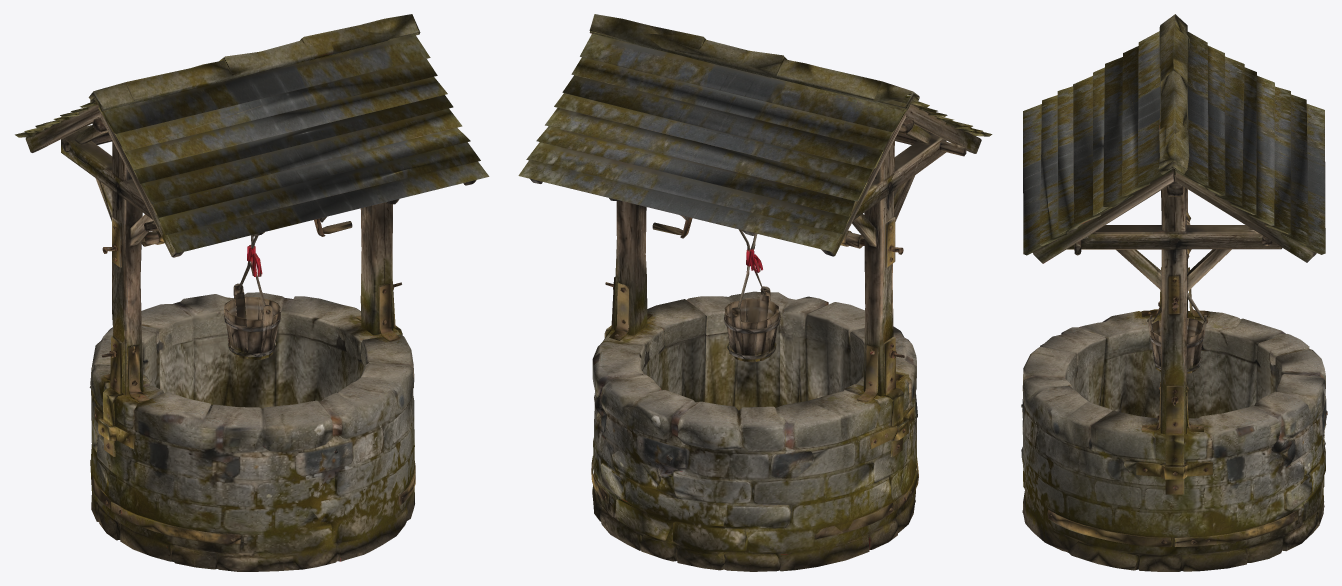
Rendered from vil-well.fbx.
3 views of the same model, side by side, from view 1: azimuth 30°, elevation 25°; view 2: azimuth 150°, elevation 25°; view 3: azimuth 270°, elevation 25° (orthographic). The views are drawn at different scales.
Parts seen in each view (by area): view 1: Mesh_0; view 2: Mesh_0; view 3: Mesh_0.
Boxes of the visible parts, x1=… form: Mesh_0: x1=15, y1=14, x2=489, y2=571; Mesh_0: x1=518, y1=14, x2=992, y2=571; Mesh_0: x1=1021, y1=14, x2=1327, y2=571.
Size of the model in its own units: 70.12 by 95.41 by 62.26.
1 material, 1 textured.
